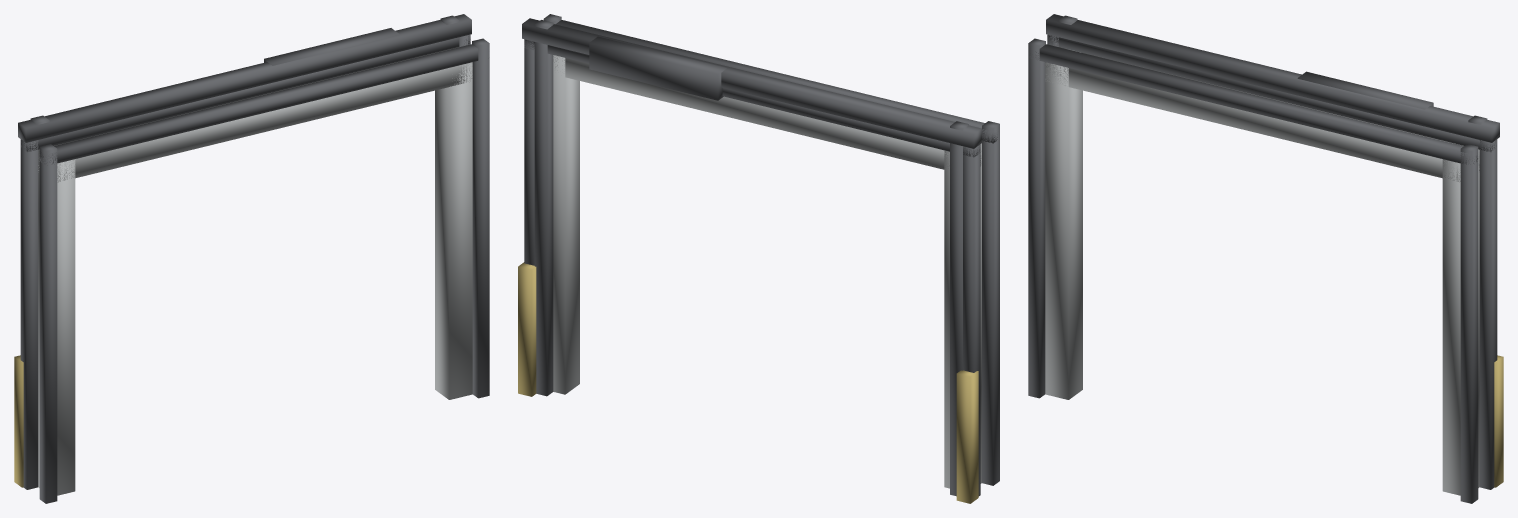
Rendered from bay_opening_service_bay_w300_h240_d20.glb.
3 views of the same model, side by side, from view 1: azimuth 30°, elevation 25°; view 2: azimuth 150°, elevation 25°; view 3: azimuth 330°, elevation 25° (orthographic).
Parts seen in each view (by area): view 1: world; view 2: world; view 3: world.
Part boxes in pixels (left/top/right/bottom): world: left=14, top=14, right=489, bottom=503; world: left=518, top=14, right=999, bottom=503; world: left=1028, top=14, right=1503, bottom=503.
Bounding box in the file's own units: 3.58 × 2.79 × 0.422.
